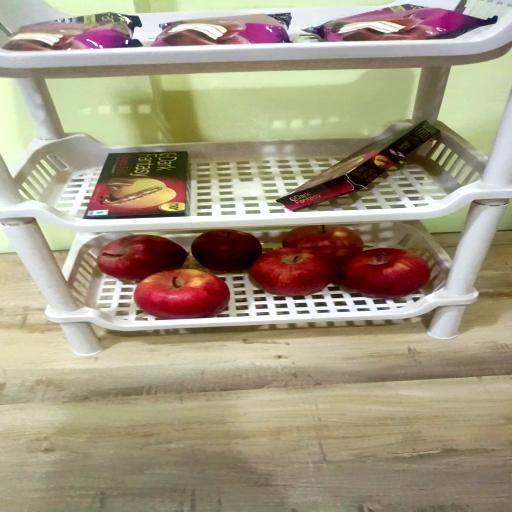Apple: (136, 270, 231, 320), (338, 250, 430, 300), (251, 249, 337, 298), (97, 236, 186, 283), (282, 226, 364, 269), (193, 231, 264, 273)
Choco Fills: (277, 120, 439, 210), (82, 153, 187, 222)
Choco Pie: (304, 4, 496, 42), (5, 14, 141, 52), (154, 14, 292, 46)
